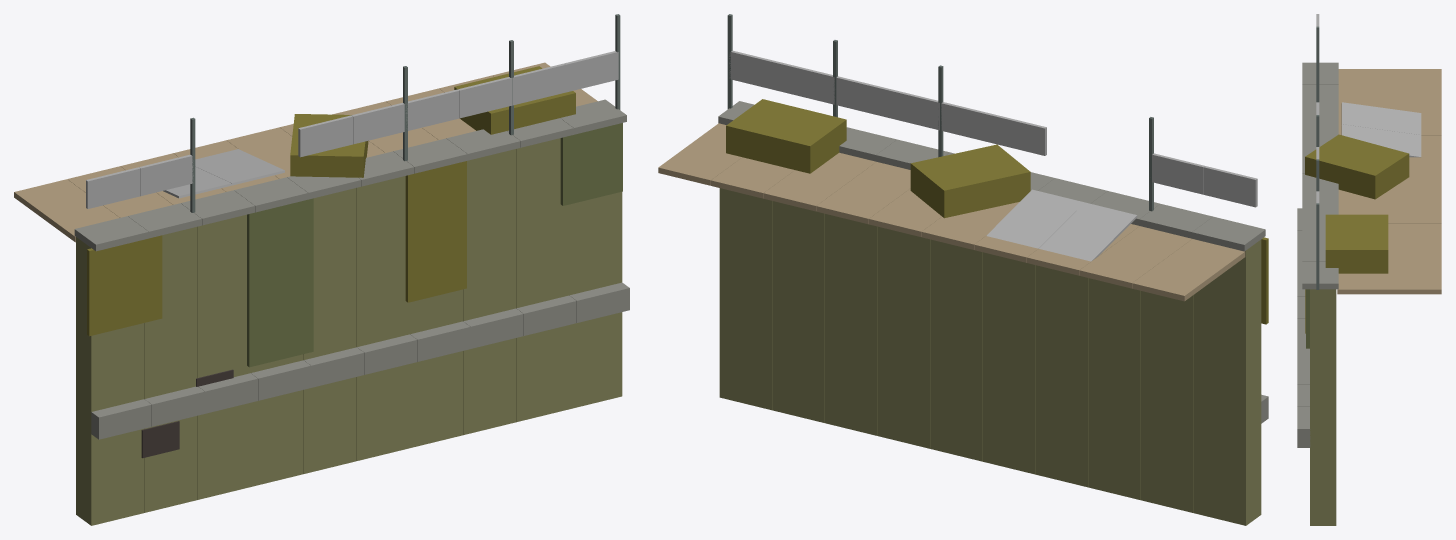
Rendered from SM_MuroRampa_v2_Hiedra_e1_Danado_LOD1.fbx.
3 renders of one model, left to right at view 1: azimuth 30°, elevation 25°; view 2: azimuth 150°, elevation 25°; view 3: azimuth 270°, elevation 25°, orthographic. The views are drawn at different scales.
Parts seen in each view (by area): view 1: SM_muro_rampa_v9_LOD1; view 2: SM_muro_rampa_v9_LOD1; view 3: SM_muro_rampa_v9_LOD1.
Boxes of the visible parts, left/top/right/bottom form: SM_muro_rampa_v9_LOD1: left=14, top=14, right=629, bottom=525; SM_muro_rampa_v9_LOD1: left=658, top=14, right=1268, bottom=525; SM_muro_rampa_v9_LOD1: left=1297, top=14, right=1441, bottom=525.
Bounding box in the file's own units: 10.12 × 6.8 × 2.77.
